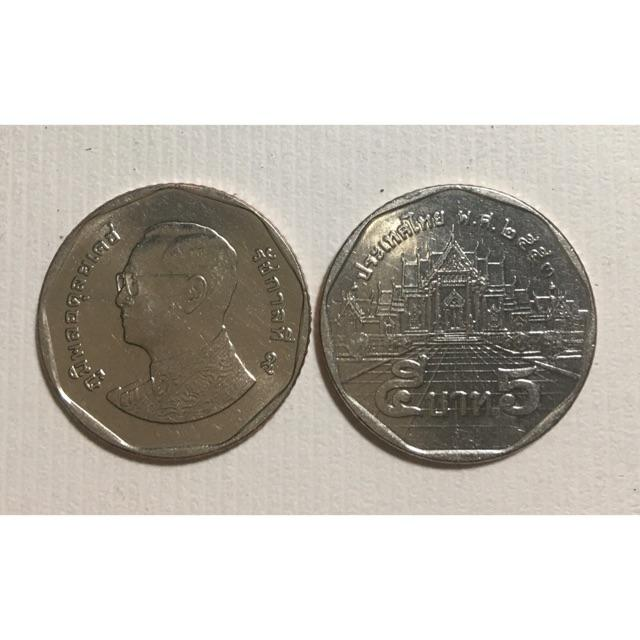5-baht: (317, 162, 601, 477), (29, 176, 318, 470)
